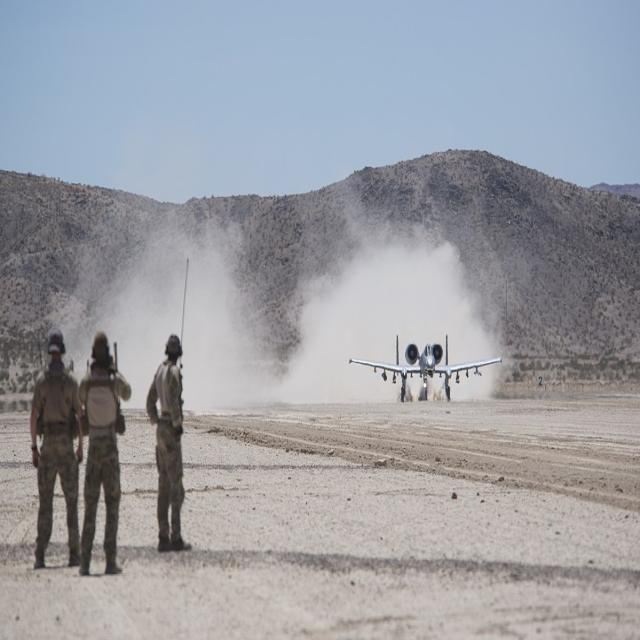MIL_Plane: (348, 334, 504, 401)
